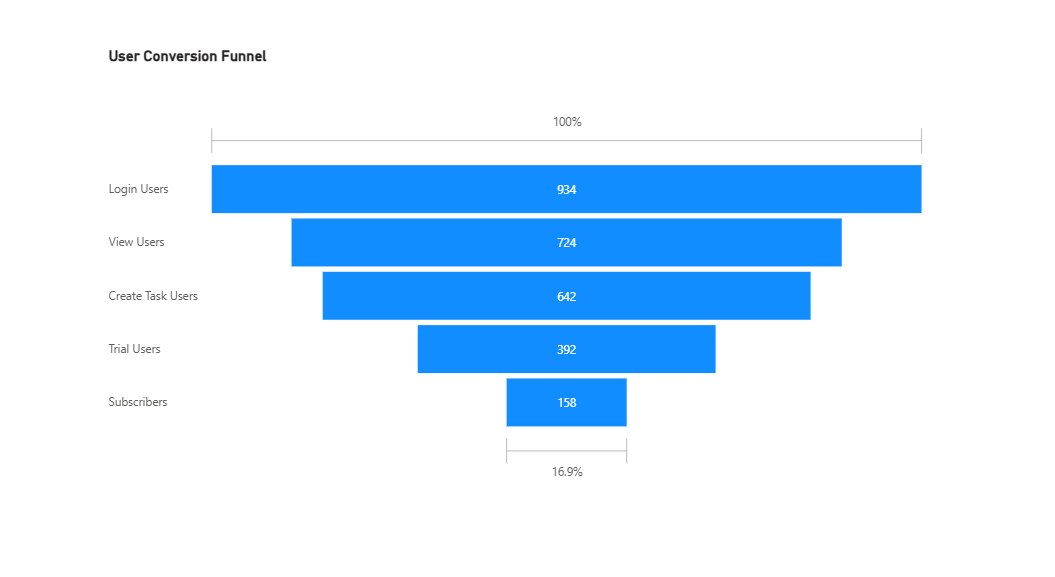

What the dashboard file says about the page in this screenshot:
{"tool":"powerbi","page":{"name":"Funnel","canvas":[1280,720],"ordinal":2},"visuals":[{"type":"funnel","title":"User Conversion Funnel","fields":{"Y":["DateTable.Login Users","DateTable.View Users","DateTable.Create Task Users","DateTable.Trial Users","DateTable.Subscribers"]},"box":[167.1,84.3,944.3,564.3],"z":1}]}

Visuals, with their boxes in screenshot pixels (x1, y1, x2, y2), scaled from the page's 1280x720 canvas onto the 1055x577 screenshot:
"User Conversion Funnel" funnel: [138,68,916,520]
